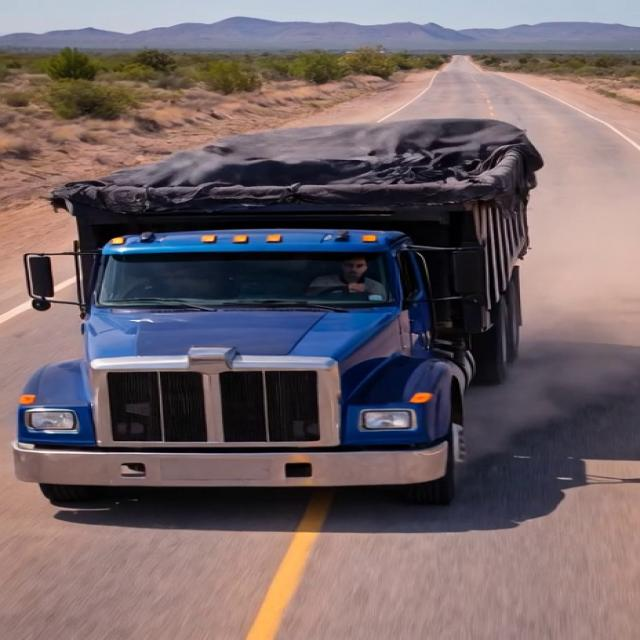Box: (59, 105, 554, 215)
Truck: (2, 83, 561, 519)
